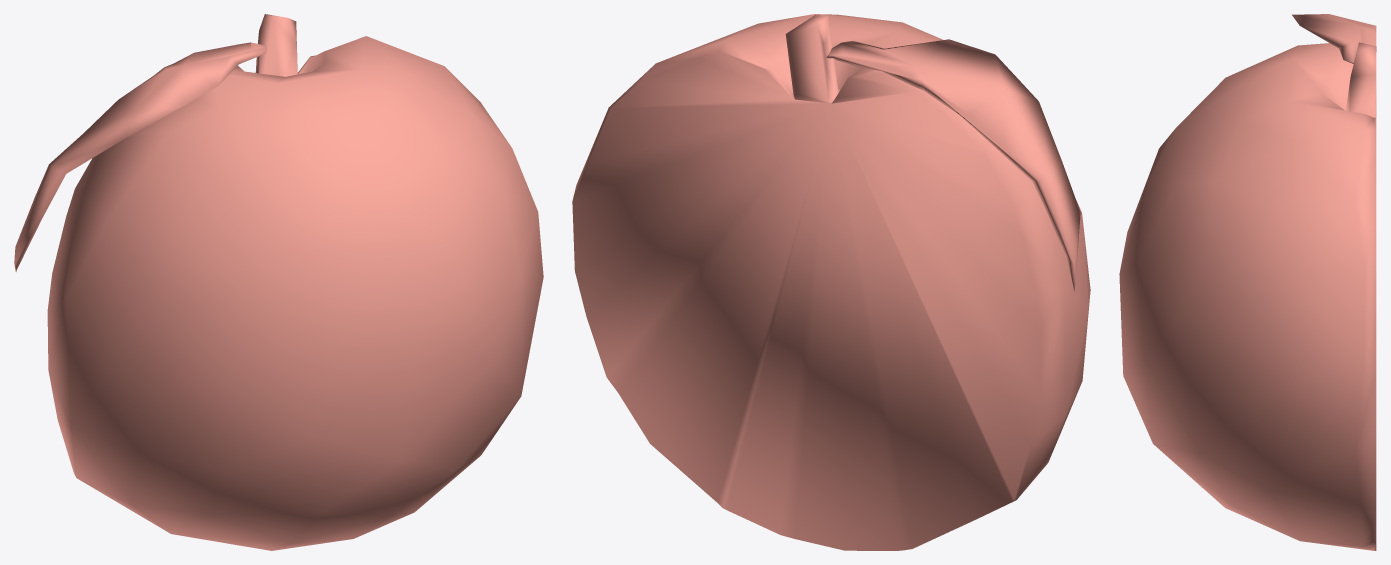
File: peach_left.obj
The picture shows the model from 3 angles, left to right: view 1: azimuth 30°, elevation 25°; view 2: azimuth 150°, elevation 25°; view 3: azimuth 270°, elevation 25°; orthographic projection. The views are drawn at different scales.
Visible parts, largest first — view 1: peach.002; view 2: peach.002; view 3: peach.002.
Boxes of the visible parts, x1=… form: peach.002: x1=14, y1=14, x2=543, y2=550; peach.002: x1=572, y1=14, x2=1090, y2=550; peach.002: x1=1119, y1=14, x2=1376, y2=550.
Size of the model in its own units: 0.1315 by 0.1297 by 0.0632.
